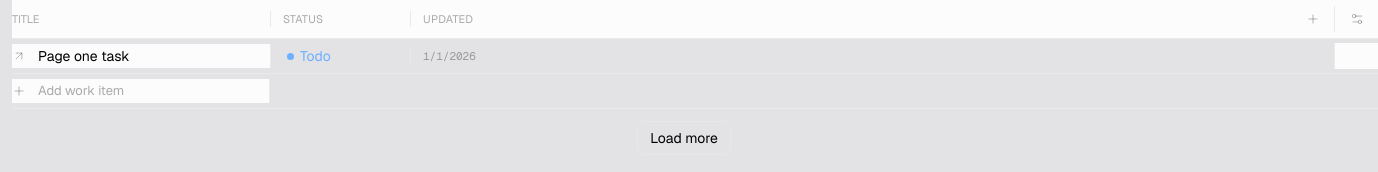
Test case: TableView — pagination + server-side filter (M3) › shows a match that only appears on page 2 (the regression being fixed)
Check: the text "Page one task" is shown, box [34,44,134,68]
Check: the text "Page two MATCH" is not shown
Click the button with test id "load-more" at x=684, y=138, box [637,121,731,155]
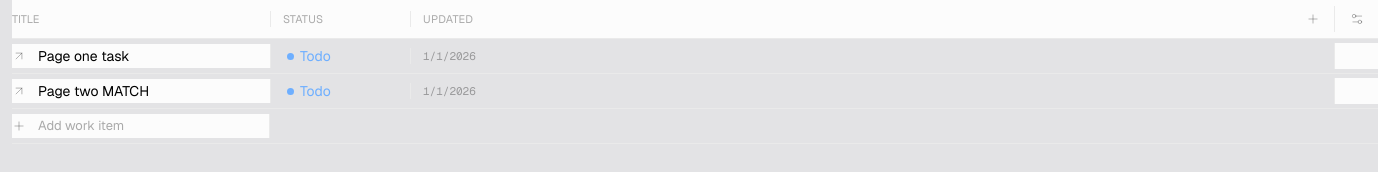
Check: the text "Page one task" is shown, box [34,44,134,68]
Check: the text "Page two MATCH" is shown, box [34,79,153,103]
